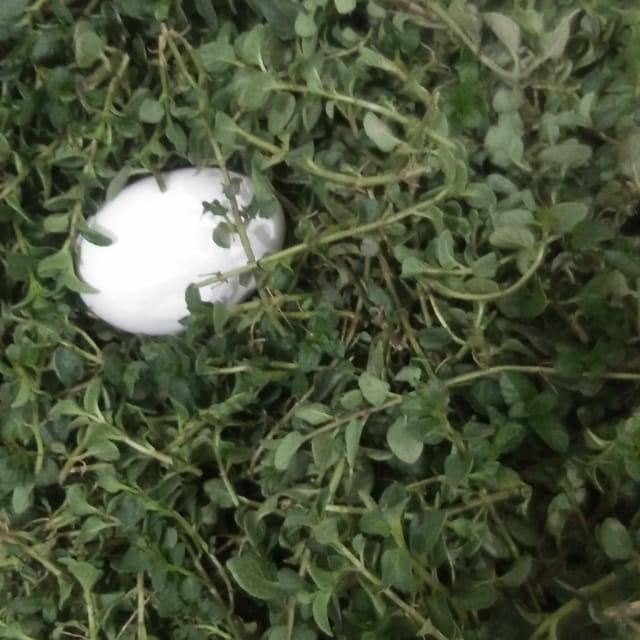egg: (69, 162, 287, 338)
